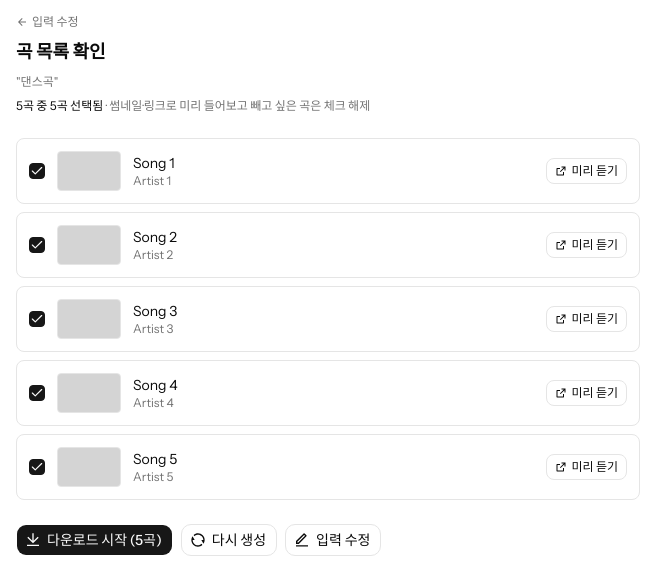
Test: ListConfirmScreen › updates counter and label when checkboxes toggle
Click the checkbox named "Song 2 선택": (37, 245) 29,237 -> 45,253
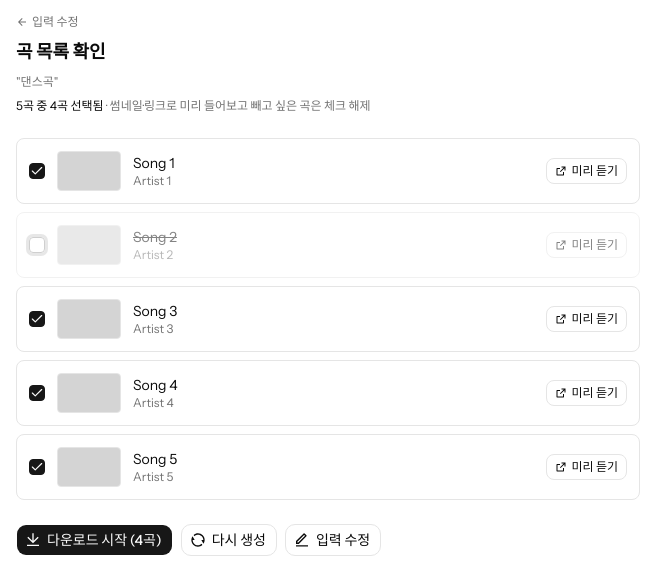
Click the checkbox named "Song 4 선택": (37, 393) 29,385 -> 45,401
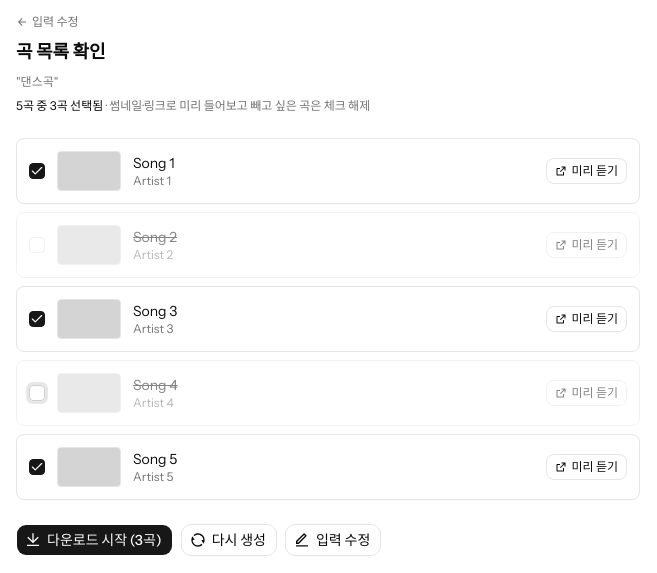
expect the text "5곡 중 3곡 선택됨" is shown: met, box 16,98 -> 103,113
expect the button "다운로드 시작 (3곡)" is shown: met, box 16,524 -> 173,556
